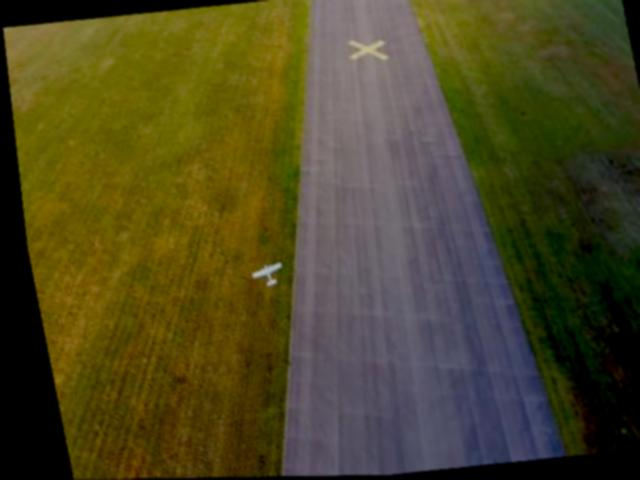uav: (242, 259, 280, 288)
